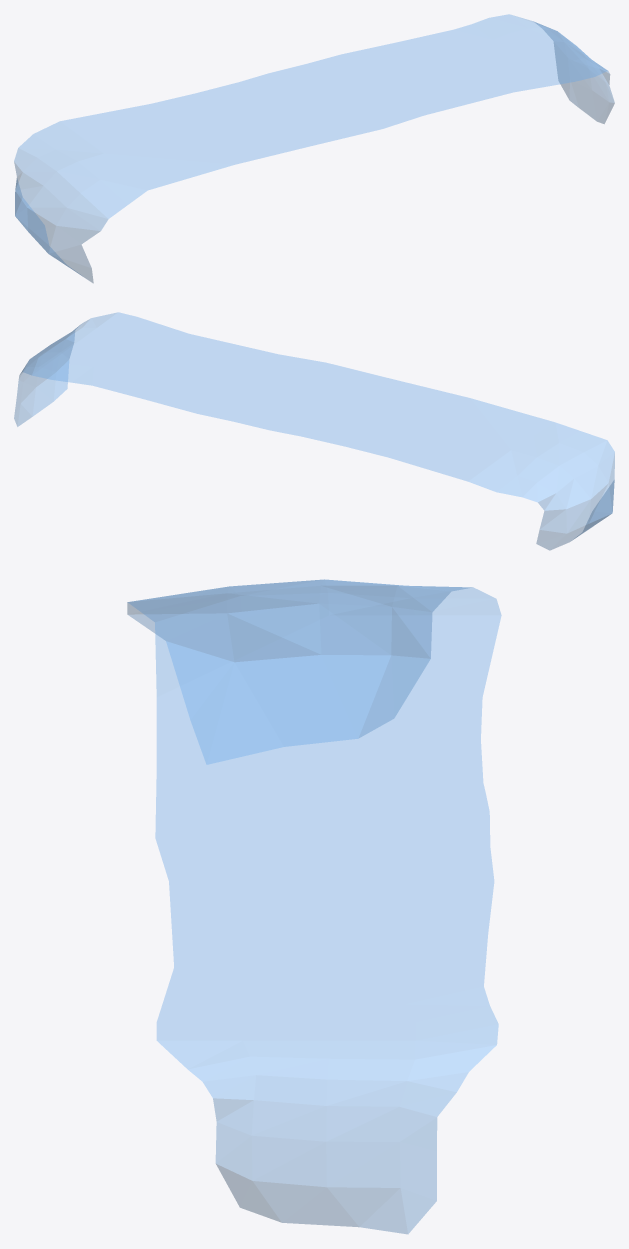
Rendered from water.fbx.
The picture shows the model from 3 angles, top to bottom: view 1: azimuth 30°, elevation 25°; view 2: azimuth 150°, elevation 25°; view 3: azimuth 270°, elevation 25°; orthographic projection. The views are drawn at different scales.
Parts seen in each view (by area): view 1: Plane; view 2: Plane; view 3: Plane.
Part boxes in pixels (bbox=[...]): Plane: bbox=[14, 14, 614, 282]; Plane: bbox=[14, 312, 614, 550]; Plane: bbox=[127, 579, 501, 1233].
Bounding box in the file's own units: 871 × 142 × 255.
